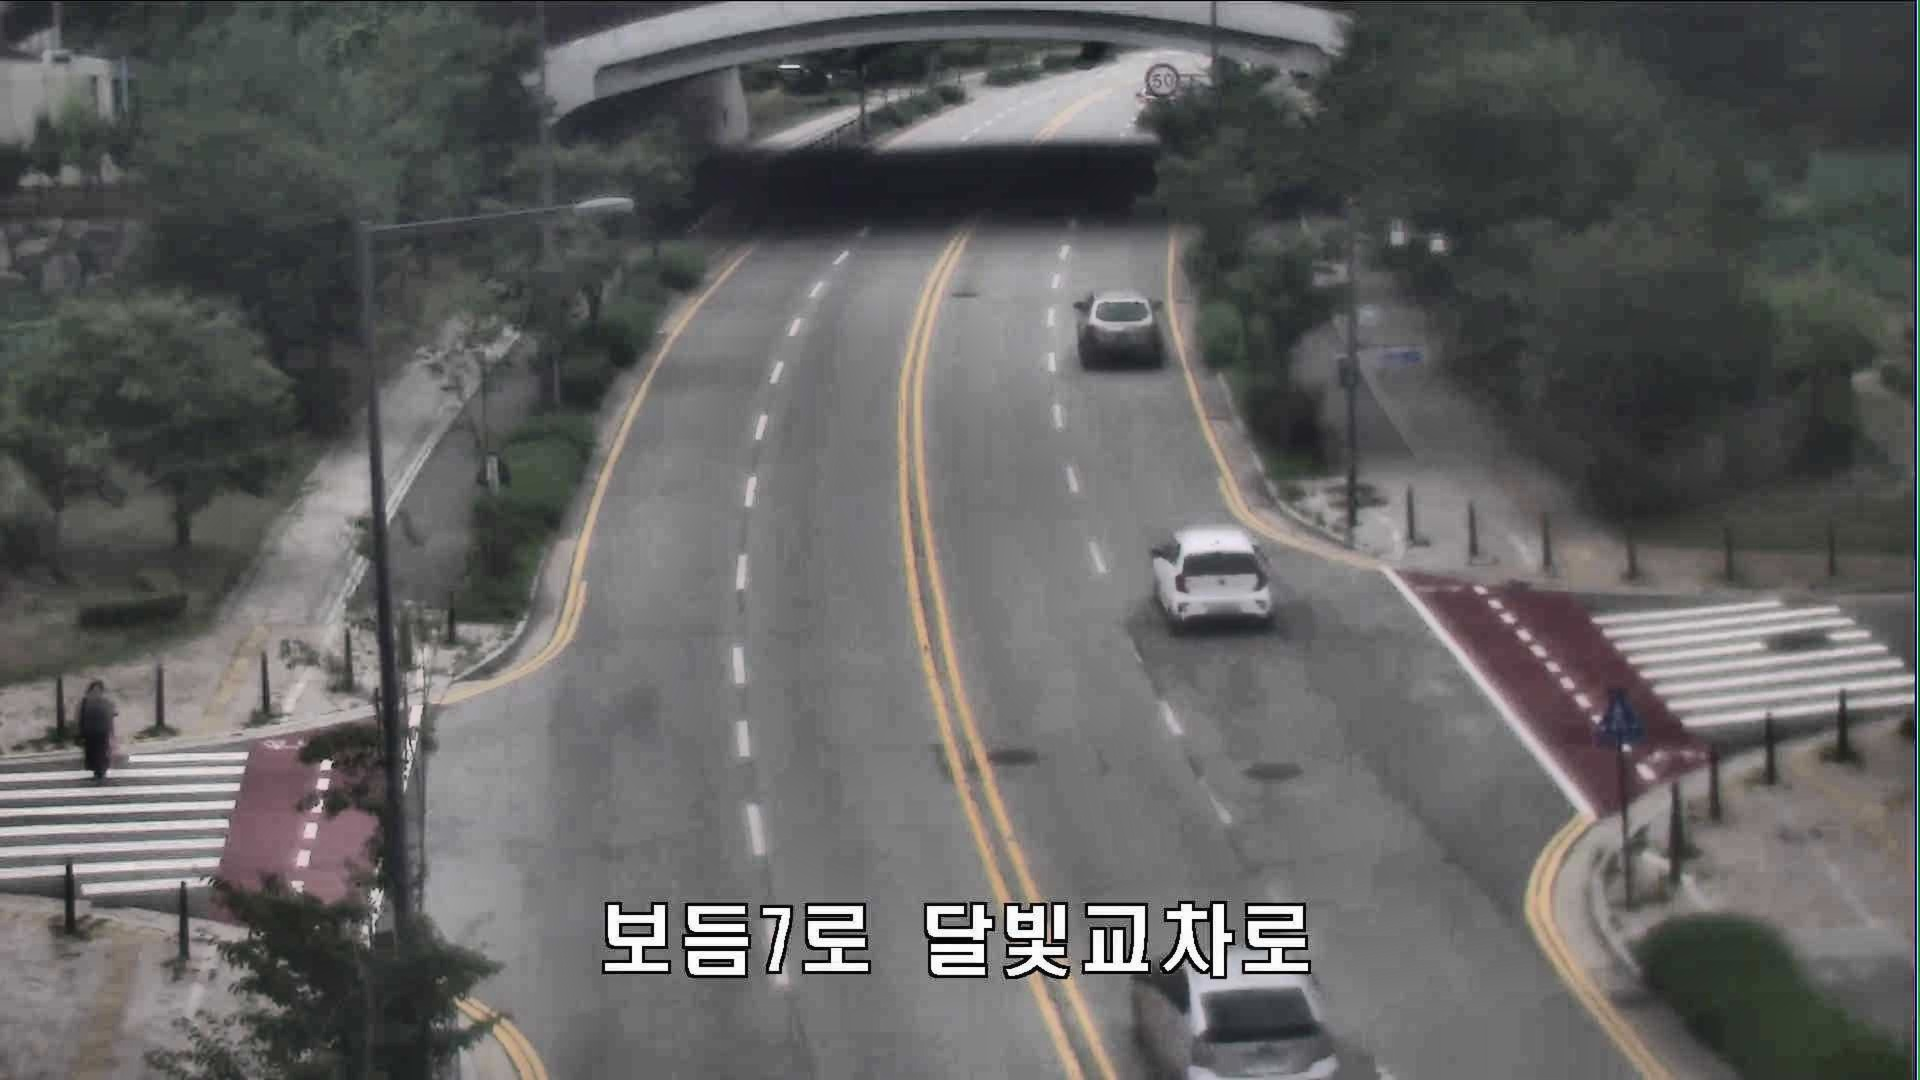crosswalk: (71, 675, 124, 794)
